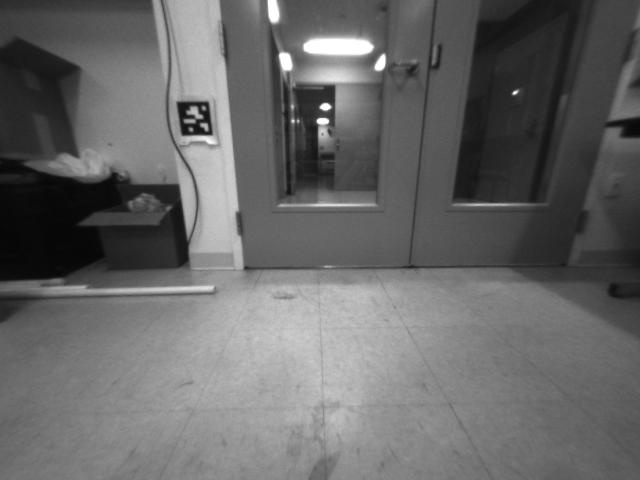door_handle: (384, 54, 421, 79)
